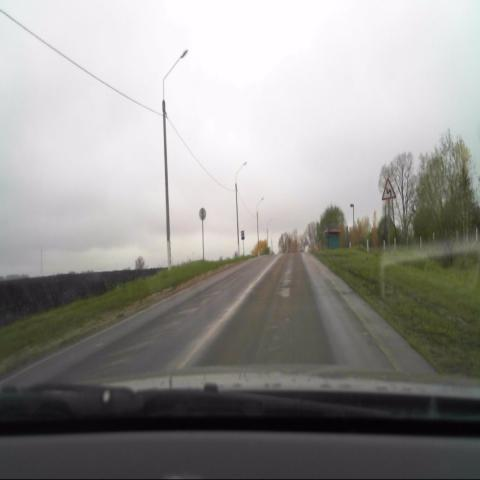1_12_2: (381, 177, 396, 200)
